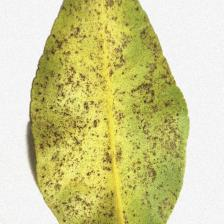canker: (28, 31, 176, 180)
